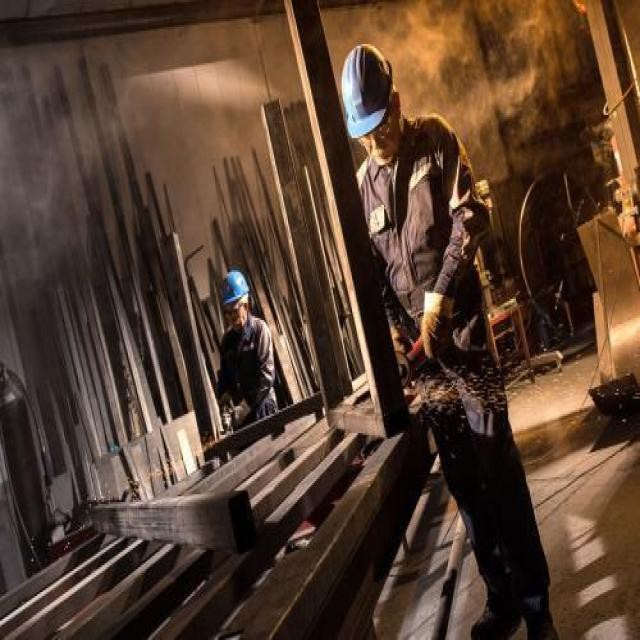hat: (337, 40, 408, 162), (218, 268, 254, 327)
